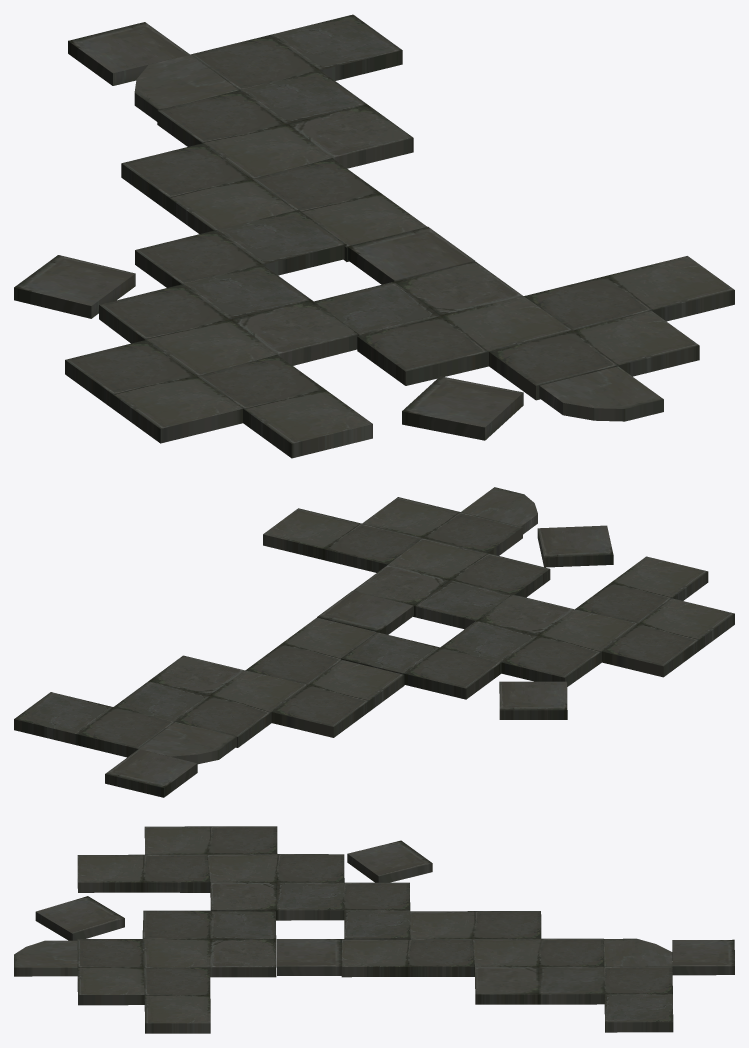
3 views of the same model, one above another, from view 1: azimuth 30°, elevation 25°; view 2: azimuth 150°, elevation 25°; view 3: azimuth 270°, elevation 25° (orthographic). The views are drawn at different scales.
Visible parts, largest first — view 1: pasted__Combined_Mesh_root_scene__Mesh_polySurface4505; view 2: pasted__Combined_Mesh_root_scene__Mesh_polySurface4505; view 3: pasted__Combined_Mesh_root_scene__Mesh_polySurface4505.
Part boxes in pixels (x1,y1,x2,y2): pasted__Combined_Mesh_root_scene__Mesh_polySurface4505: (14, 14, 734, 458); pasted__Combined_Mesh_root_scene__Mesh_polySurface4505: (14, 487, 734, 797); pasted__Combined_Mesh_root_scene__Mesh_polySurface4505: (14, 826, 734, 1033).
Size of the model in its own units: 17.66 by 0.4684 by 27.43.
Materials: 1 (1 with a texture image).
